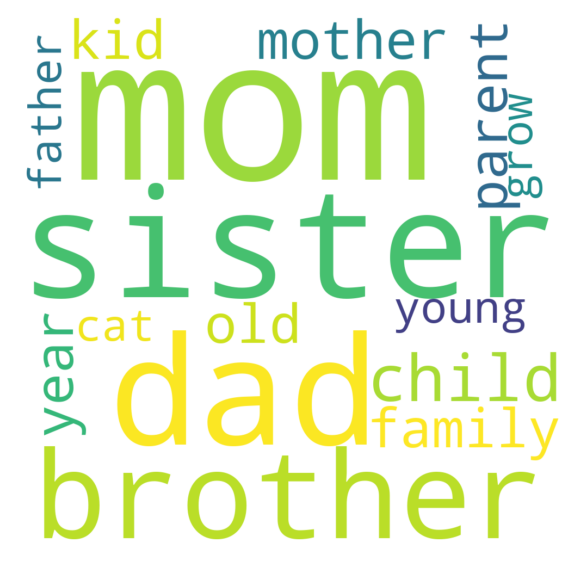

Layout of this report page (visuals, bound fields, positions):
{"tool":"tableau","page":{"name":"Dashboard 1","canvas":[1000,800],"ordinal":0},"visuals":[{"type":"worksheet","title":"Topics","mark":"Automatic","box":[74,14,886,777]},{"type":"worksheet","title":"Topics","mark":"Automatic","param":"[federated.0f70d2m07pqro519ml5wd1i6v16a].[none:type:nk]","box":[10,18,72,40]}]}

Visuals, with their boxes on the page's 1000x800 design canvas (x1, y1, x2, y2). These are canvas units, not pixel positions in the 579x579 screenshot, which may show the page scaled, cropped or inside an application window:
"Topics" worksheet: pyautogui.locateOnScreen(74, 14, 960, 791)
"Topics" worksheet: pyautogui.locateOnScreen(10, 18, 82, 58)
